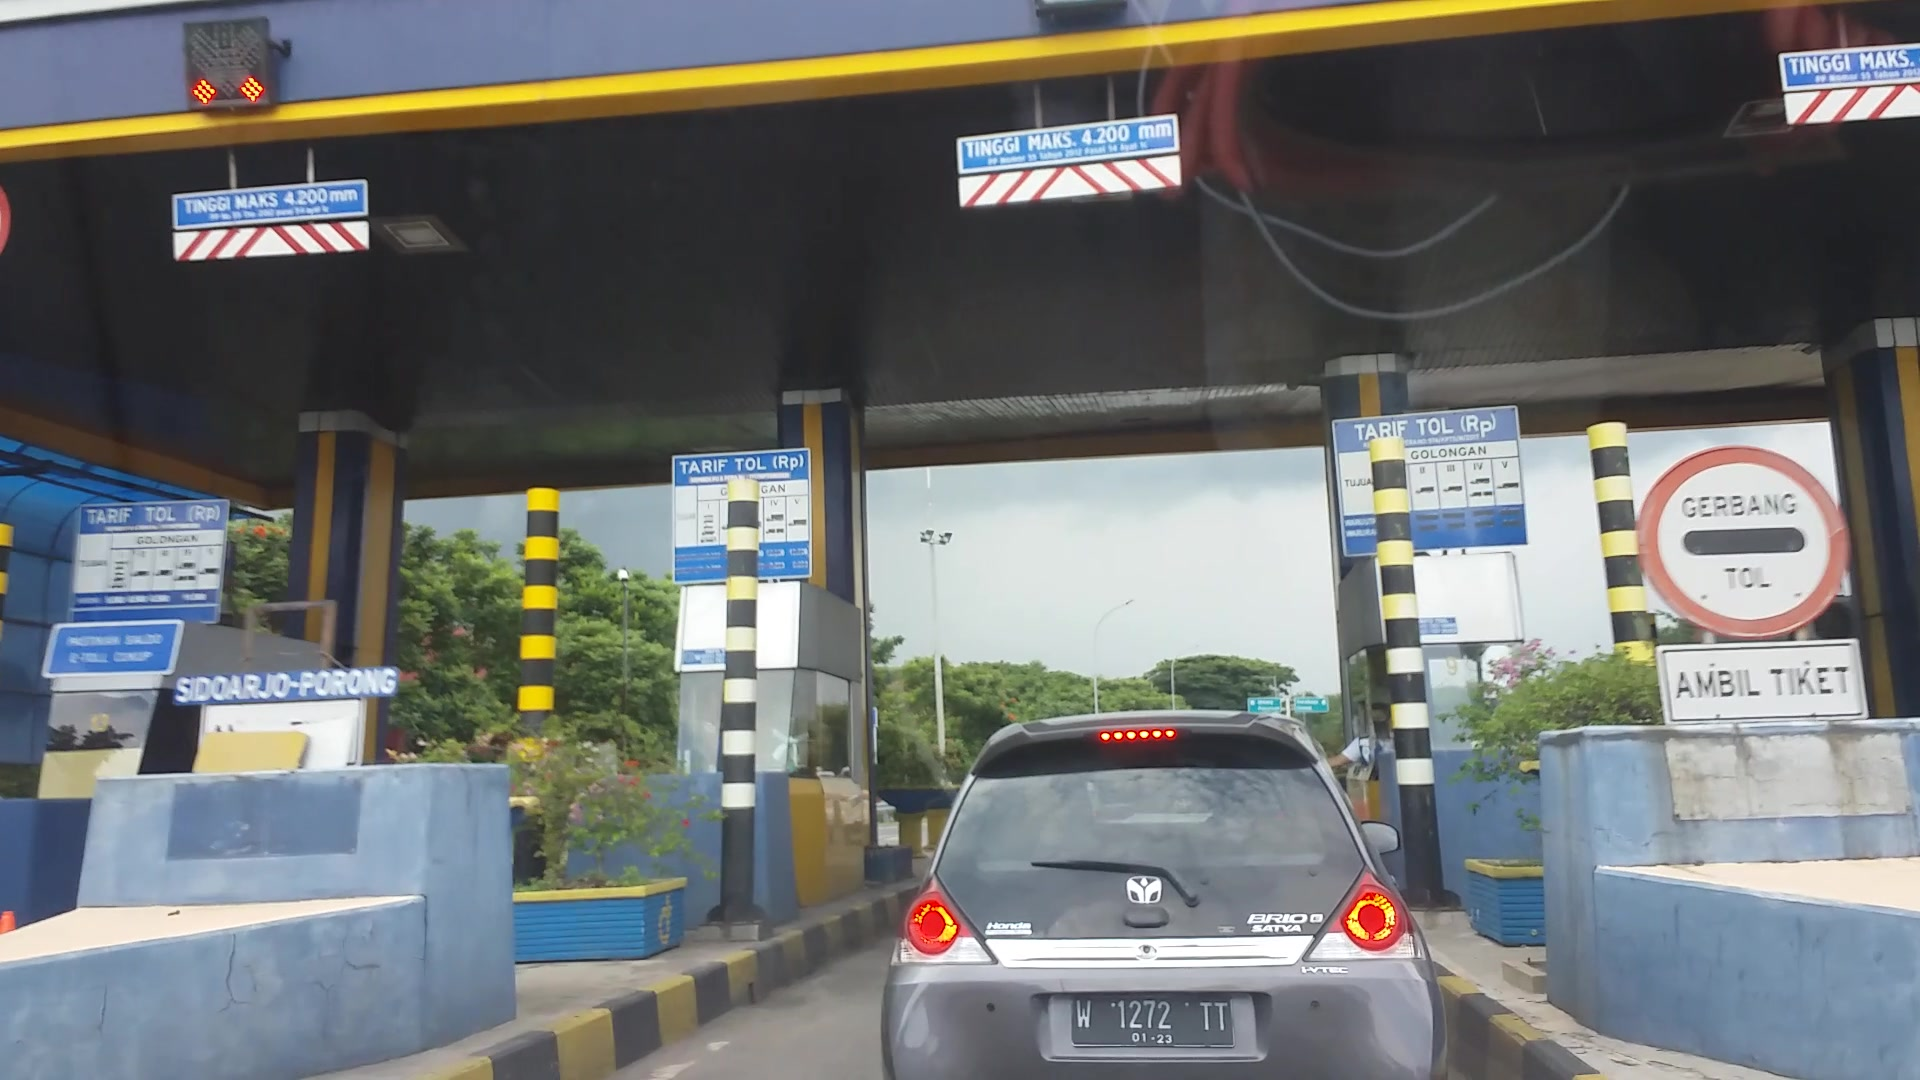plate_positive: (1072, 992, 1232, 1048)
